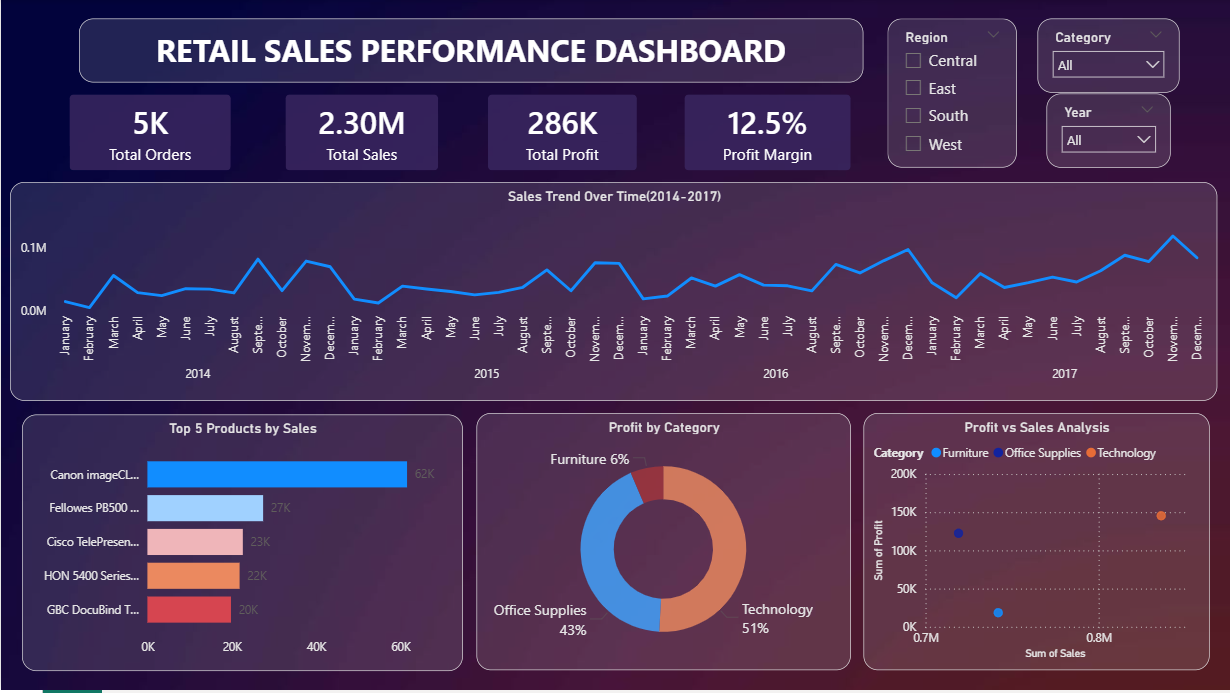

What the dashboard file says about the page in this screenshot:
{"tool":"powerbi","page":{"name":"Page 1","canvas":[1280,720],"ordinal":0},"visuals":[{"type":"lineChart","title":"Sales Trend Over Time(2014-2017)","fields":{"Y":["Sum(Sample - Superstore.Sales)"],"Category":["Sample - Superstore.Order Date.Variation.Date Hierarchy.Year","Sample - Superstore.Order Date.Variation.Date Hierarchy.Month"]},"box":[22.2,190.4,1236.9,225.6],"z":0},{"type":"textbox","box":[81.3,20.3,817.2,66.6],"z":1000},{"type":"clusteredBarChart","title":"Top 5 Products by Sales","fields":{"Y":["Sum(Sample - Superstore.Sales)"],"Category":["Sample - Superstore.Product Name"]},"box":[22.2,430.8,458.5,268.1],"z":2000},{"type":"cardVisual","fields":{"Data":["Sum(Sample - Superstore.Profit)"]},"box":[495.5,86.9,179.3,103.5],"z":3000},{"type":"cardVisual","fields":{"Data":["Count(Sample - Superstore.Order ID)"]},"box":[59.2,86.9,192.3,103.5],"z":4000},{"type":"slicer","fields":{"Values":["Sample - Superstore.Region"]},"box":[924.4,20.3,135,155.3],"z":5000},{"type":"slicer","fields":{"Values":["Sample - Superstore.Category"]},"box":[1079.7,20.3,147.9,77.7],"z":6000},{"type":"slicer","fields":{"Values":["Sample - Superstore.Order Date.Variation.Date Hierarchy.Year"]},"box":[1089,98,129.4,77.7],"z":7000},{"type":"donutChart","title":"Profit by Category","fields":{"Category":["Sample - Superstore.Category"],"Y":["Sum(Sample - Superstore.Profit)"]},"box":[495.5,430.8,390.1,268.1],"z":8000},{"type":"scatterChart","title":"Profit vs Sales Analysis","fields":{"X":["Sum(Sample - Superstore.Sales)"],"Y":["Sum(Sample - Superstore.Profit)"],"Series":["Sample - Superstore.Category"]},"box":[898.5,430.8,360.5,268.1],"z":9000},{"type":"cardVisual","fields":{"Data":["Sample - Superstore.Profit Margin"]},"box":[700.7,86.9,197.8,103.5],"z":10000},{"type":"cardVisual","fields":{"Data":["Sum(Sample - Superstore.Sales)"]},"box":[284.7,86.9,183,103.5],"z":11000}]}

Visuals, with their boxes in screenshot pixels (x1, y1, x2, y2), scaled from the page's 1280x720 canvas onto the 1230x693 screenshot:
"Sales Trend Over Time(2014-2017)" lineChart: (21,183,1210,400)
textbox: (78,20,863,84)
"Top 5 Products by Sales" clusteredBarChart: (21,415,462,673)
cardVisual - Sum(Sample - Superstore.Profit): (476,84,648,183)
cardVisual - Count(Sample - Superstore.Order ID): (57,84,242,183)
slicer - Sample - Superstore.Region: (888,20,1018,169)
slicer - Sample - Superstore.Category: (1038,20,1180,94)
slicer - Sample - Superstore.Order Date.Variation.Date Hierarchy.Year: (1046,94,1171,169)
"Profit by Category" donutChart: (476,415,851,673)
"Profit vs Sales Analysis" scatterChart: (863,415,1210,673)
cardVisual - Sample - Superstore.Profit Margin: (673,84,863,183)
cardVisual - Sum(Sample - Superstore.Sales): (274,84,449,183)
